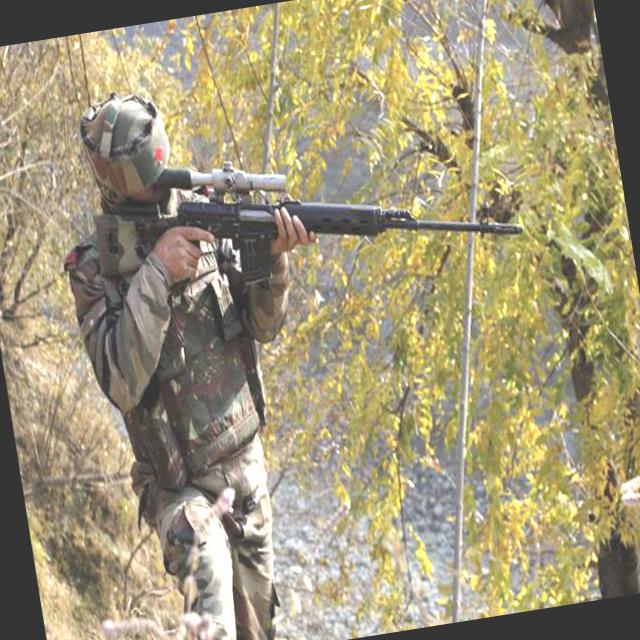long weapon: (152, 98, 544, 326)
